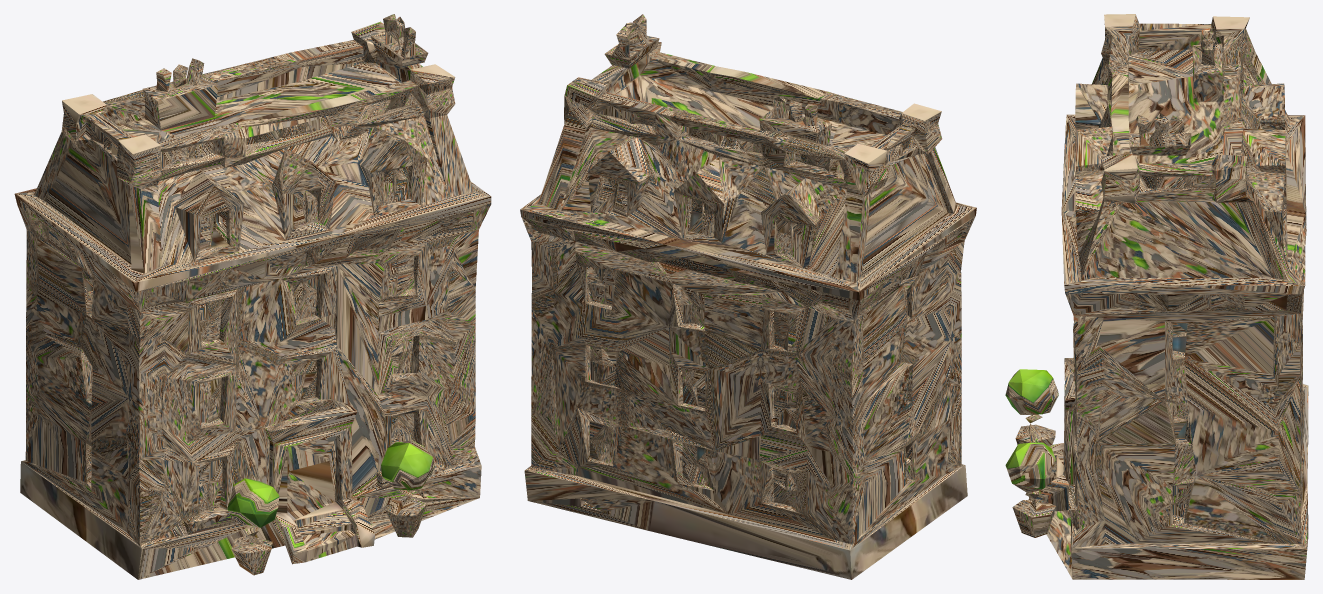
Rendered from town_flats_townhouse_tall.glb.
The picture shows the model from 3 angles, left to right: view 1: azimuth 30°, elevation 25°; view 2: azimuth 150°, elevation 25°; view 3: azimuth 270°, elevation 25°; orthographic projection. The views are drawn at different scales.
Parts seen in each view (by area): view 1: normalize; view 2: normalize; view 3: normalize.
Part boxes in pixels (box(x1,y1,x2,y2)): normalize: box(14, 14, 491, 579); normalize: box(520, 14, 976, 579); normalize: box(1005, 14, 1308, 579).
Bounding box in the file's own units: 1 × 1.22 × 0.7485.
Materials: 1 (1 with a texture image).
